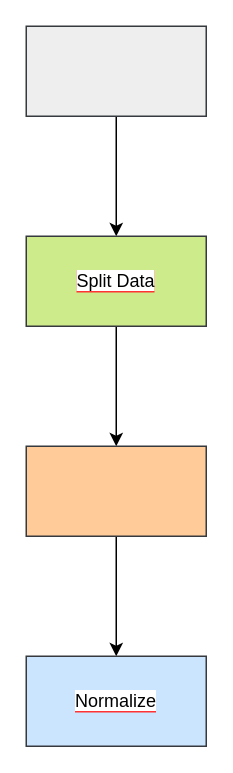
The diagram is 233 pixels wide and 773 high, and some of its shapes have lost their labels. The shapes that lost their labels are listed below. From the top down, each one's centre as x and y in pixels, then its label:
At (115,70): "RAW DATA".
At (115,490): "Rocket Transform".
